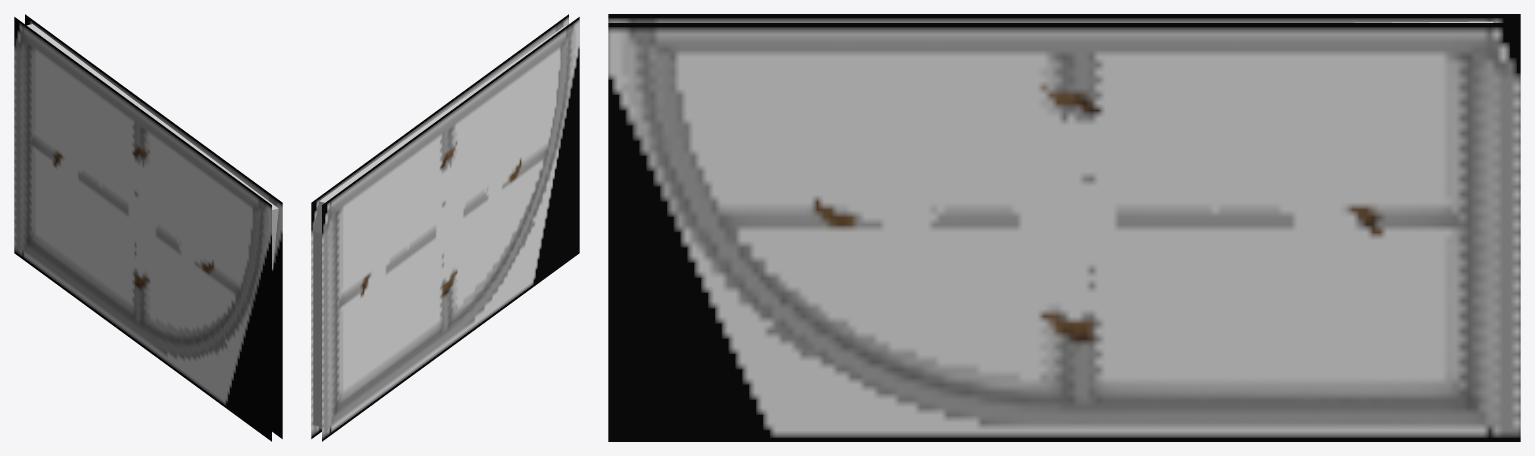
The model's file is pz_native_fixtures_windows_white_90_frame.obj.
3 views of the same model, side by side, from view 1: azimuth 30°, elevation 25°; view 2: azimuth 150°, elevation 25°; view 3: azimuth 270°, elevation 25° (orthographic). The views are drawn at different scales.
Parts seen in each view (by area): view 1: pz_native_fixtures_windows_white_90_frame; view 2: pz_native_fixtures_windows_white_90_frame; view 3: pz_native_fixtures_windows_white_90_frame.
Part boxes in pixels (bbox=[...]): pz_native_fixtures_windows_white_90_frame: bbox=[14, 14, 282, 441]; pz_native_fixtures_windows_white_90_frame: bbox=[311, 14, 579, 441]; pz_native_fixtures_windows_white_90_frame: bbox=[608, 14, 1520, 441].
Bounding box in the file's own units: 0.04 × 0.8594 × 1.7.
1 material, 1 textured.
